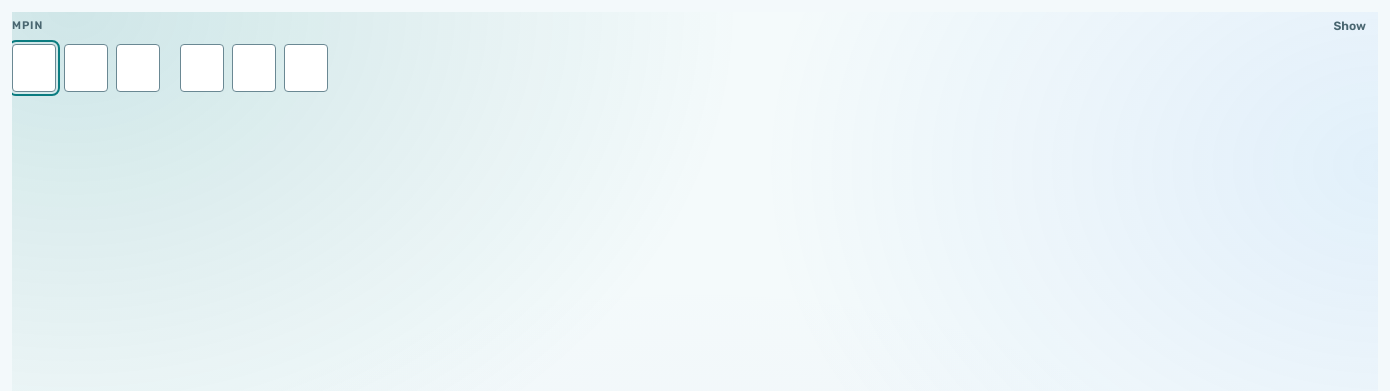
Test: each typed digit is masked as a dot until Show reveals it
Type keys "12"
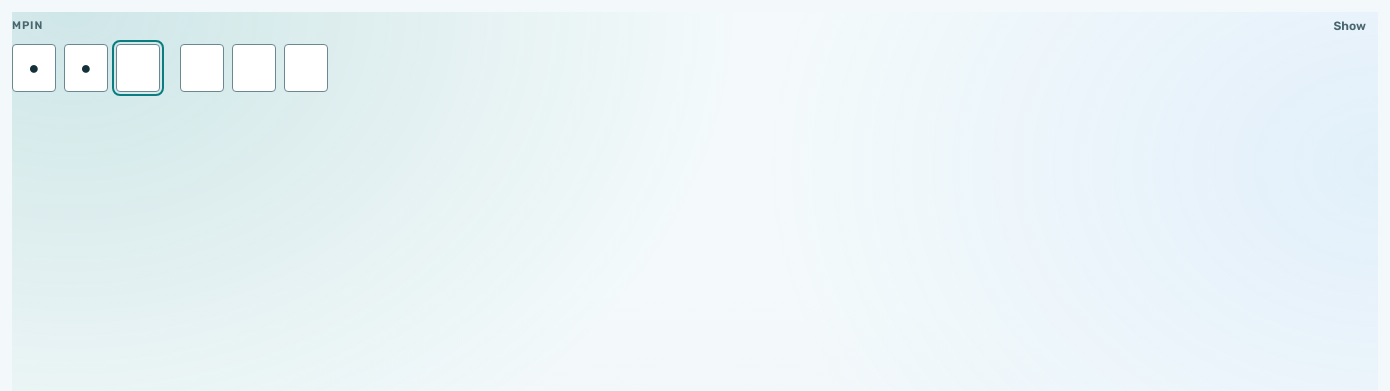
Expected: the text "1" is not shown
Expected: the text "●" is shown 2 times, [28,54,40,82]; [80,54,92,82]
Click the button "Show" at (1350, 26), box [1322,12,1378,40]
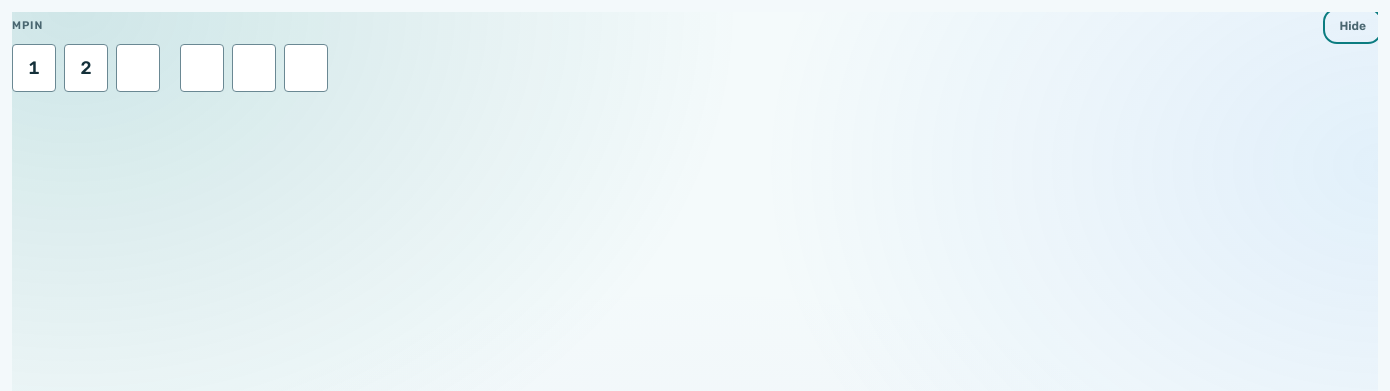
Expected: the text "1" is shown, [28,54,40,82]
Expected: the text "●" is not shown
Expected: the text "2" is shown, [80,54,92,82]
